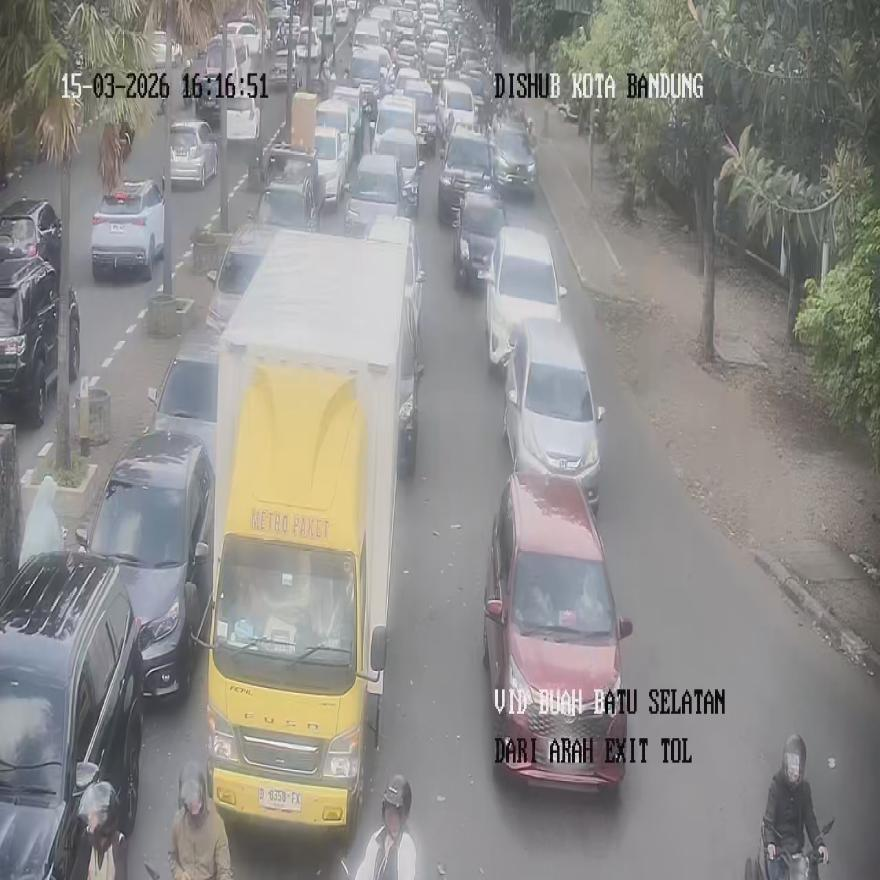Mobil: (0, 551, 144, 878), (482, 471, 631, 787), (76, 430, 214, 702), (504, 316, 604, 510), (0, 254, 80, 427), (484, 226, 566, 367), (147, 328, 219, 465), (205, 222, 274, 335), (90, 177, 164, 281), (250, 144, 324, 231), (452, 190, 506, 289), (169, 119, 218, 188)
Motor: (745, 816, 833, 879)
Truk ringan: (193, 230, 407, 847)
